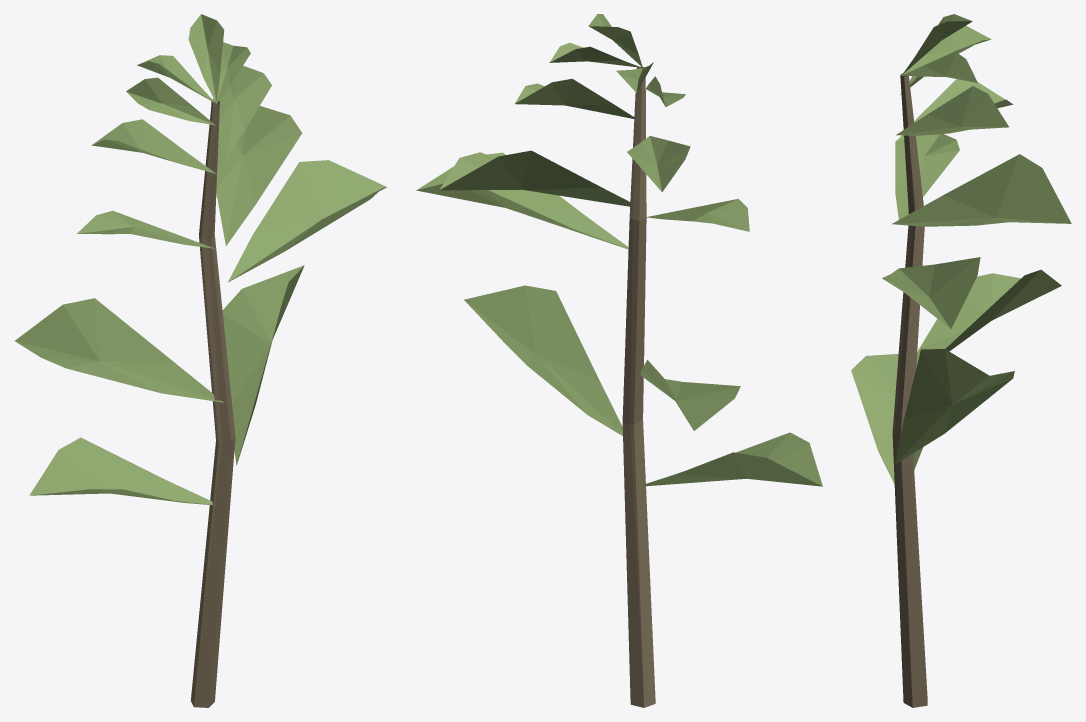
File: Peach_1_3.fbx
3 renders of one model, left to right at view 1: azimuth 30°, elevation 25°; view 2: azimuth 150°, elevation 25°; view 3: azimuth 270°, elevation 25°, orthographic. The views are drawn at different scales.
Parts seen in each view (by area): view 1: Peach_1_3; view 2: Peach_1_3; view 3: Peach_1_3.
Boxes of the visible parts, x1,y1,x2,y2 form: Peach_1_3: [15, 14, 386, 707]; Peach_1_3: [416, 14, 822, 707]; Peach_1_3: [851, 14, 1071, 707].
Size of the model in its own units: 55.31 by 93.83 by 26.97.
